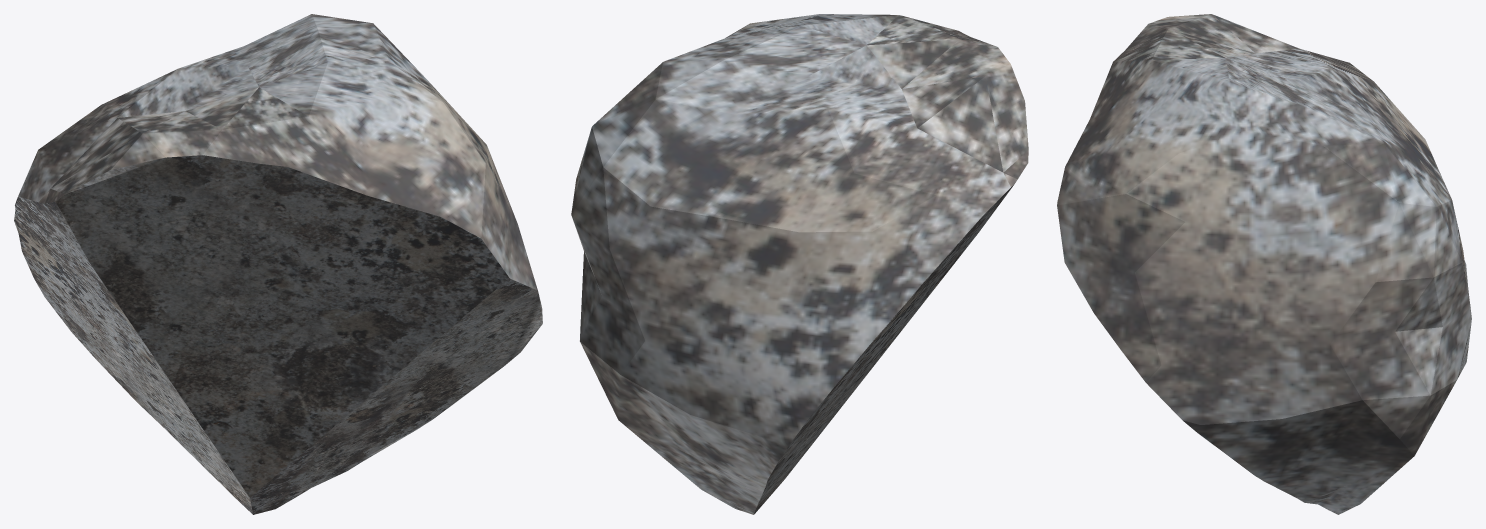
Rendered from Asteroid_Medium_001_02_006.fbx.
The picture shows the model from 3 angles, left to right: view 1: azimuth 30°, elevation 25°; view 2: azimuth 150°, elevation 25°; view 3: azimuth 270°, elevation 25°; orthographic projection. The views are drawn at different scales.
Parts seen in each view (by area): view 1: Asteroid_Medium_001_02_006; view 2: Asteroid_Medium_001_02_006; view 3: Asteroid_Medium_001_02_006.
Boxes of the visible parts, box(x1,y1,x2,y2) form: Asteroid_Medium_001_02_006: box(14, 14, 542, 514); Asteroid_Medium_001_02_006: box(571, 14, 1028, 514); Asteroid_Medium_001_02_006: box(1057, 14, 1471, 514).
Bounding box in the file's own units: 19.28 × 20.86 × 18.3.
